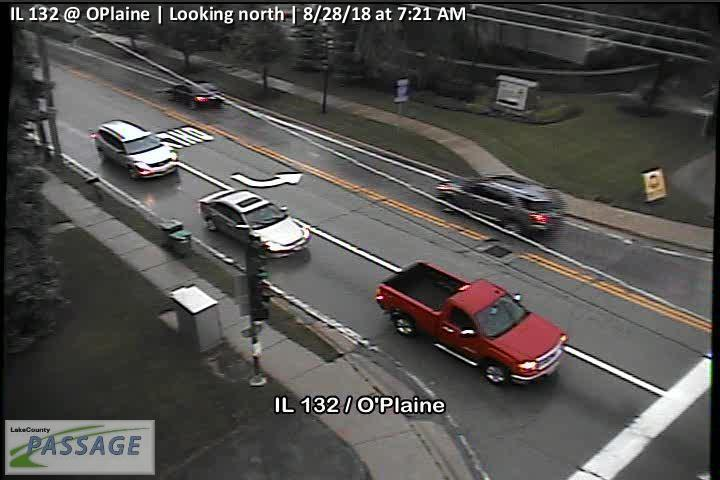SUV: (434, 174, 565, 242), (96, 119, 178, 180)
Sedan: (199, 188, 311, 260), (167, 82, 224, 108)
Truck: (375, 260, 569, 384)
